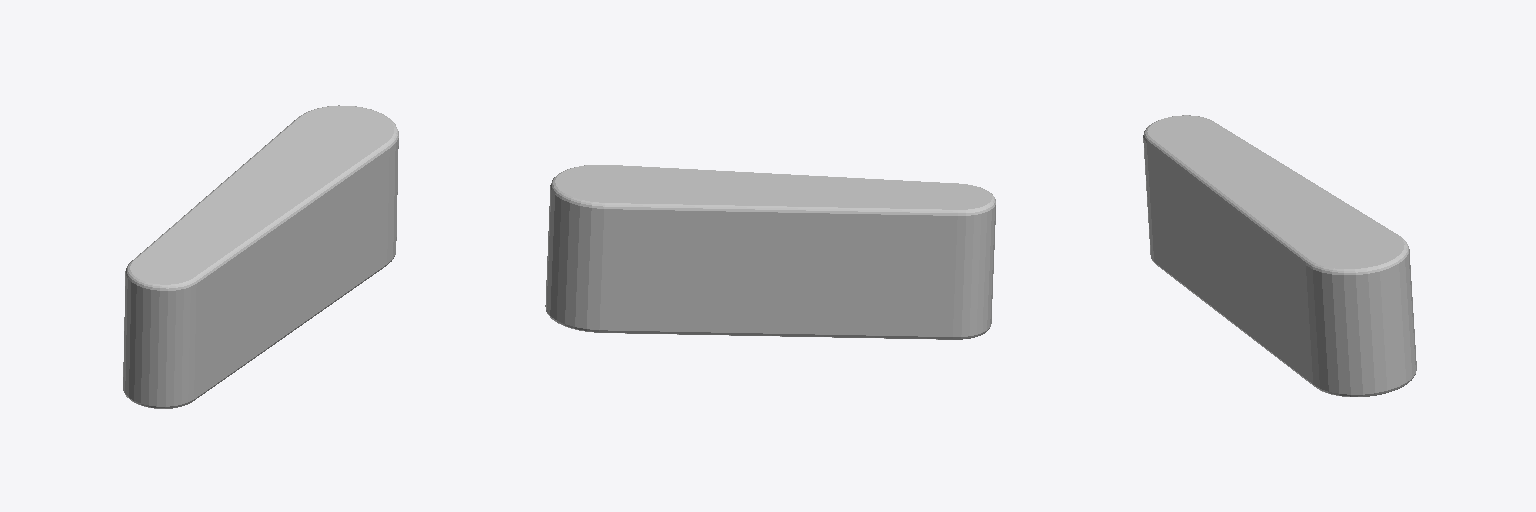
Rendered from paletaDerecha.obj.
The picture shows the model from 3 angles: view 1: azimuth 30°, elevation 25°; view 2: azimuth 150°, elevation 25°; view 3: azimuth 270°, elevation 25°; orthographic projection.
Visible parts, largest first — view 1: polySurface45 ARCHMODELS_47_050_34; view 2: polySurface45 ARCHMODELS_47_050_34; view 3: polySurface45 ARCHMODELS_47_050_34.
Boxes of the visible parts, x1=… form: polySurface45 ARCHMODELS_47_050_34: x1=123, y1=105, x2=398, y2=408; polySurface45 ARCHMODELS_47_050_34: x1=545, y1=165, x2=995, y2=339; polySurface45 ARCHMODELS_47_050_34: x1=1143, y1=115, x2=1416, y2=396.
Size of the model in its own units: 7.29 by 2.86 by 4.96.